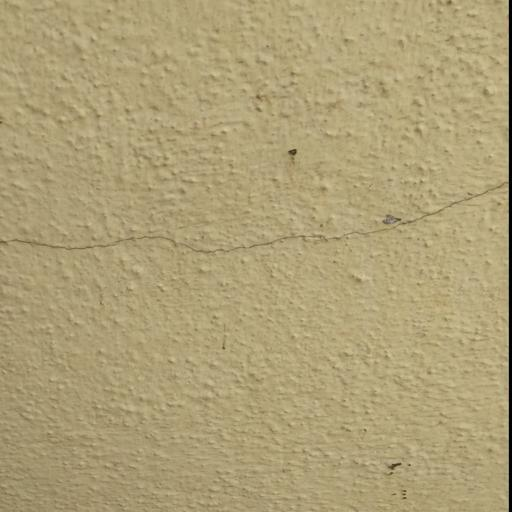minor_crack: (1, 176, 509, 255)
